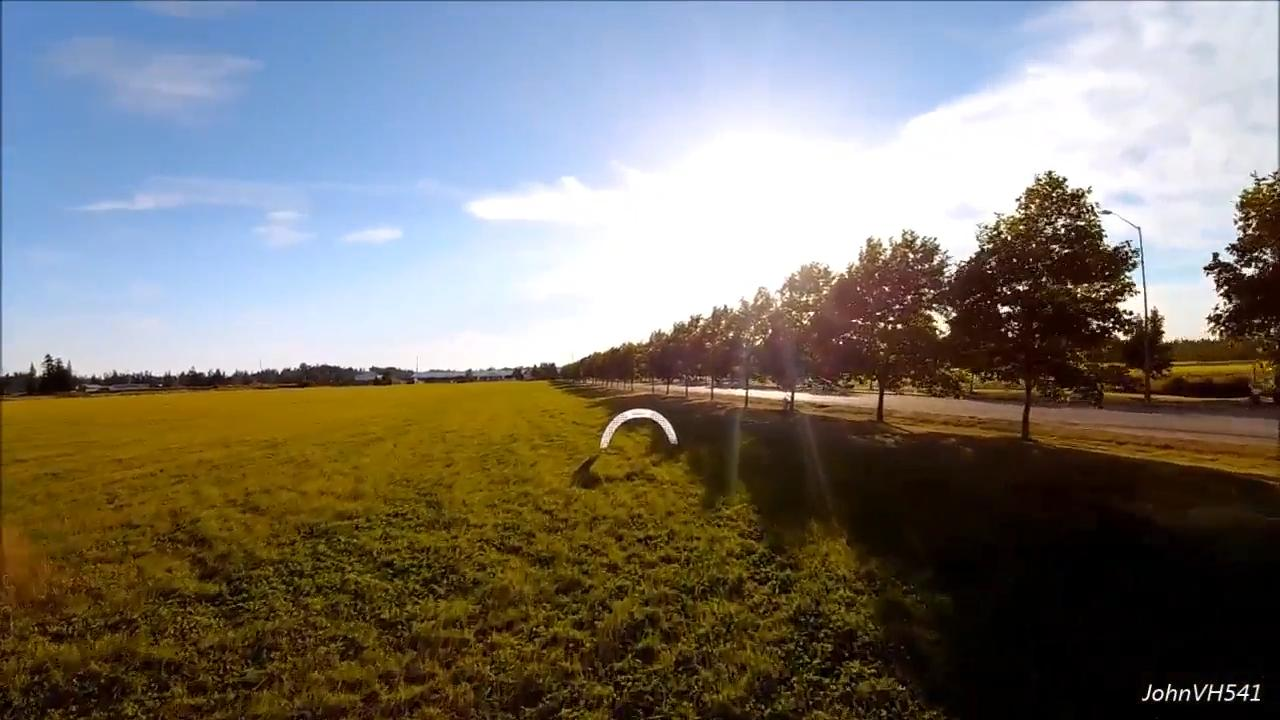gate: (597, 409, 679, 450)
